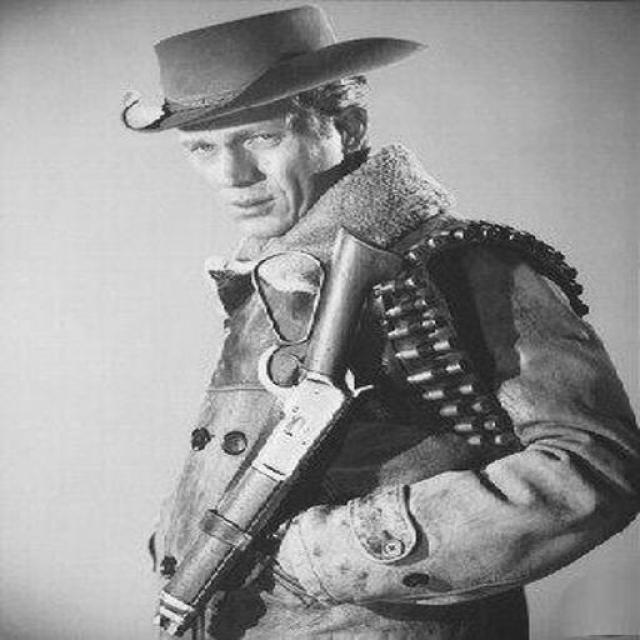pistol: (149, 247, 418, 626)
